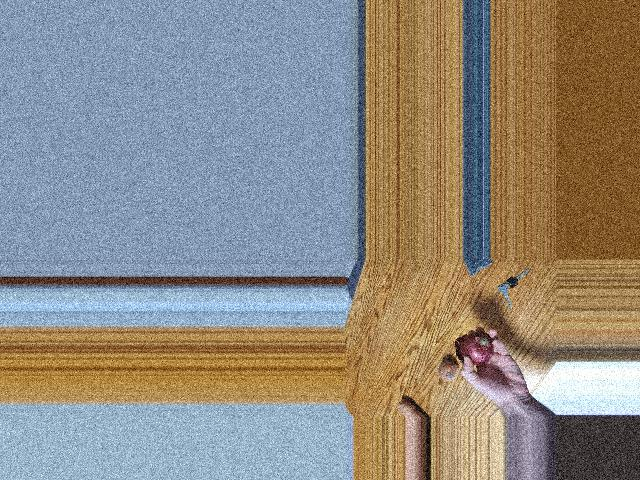onion: (461, 332, 493, 363)
